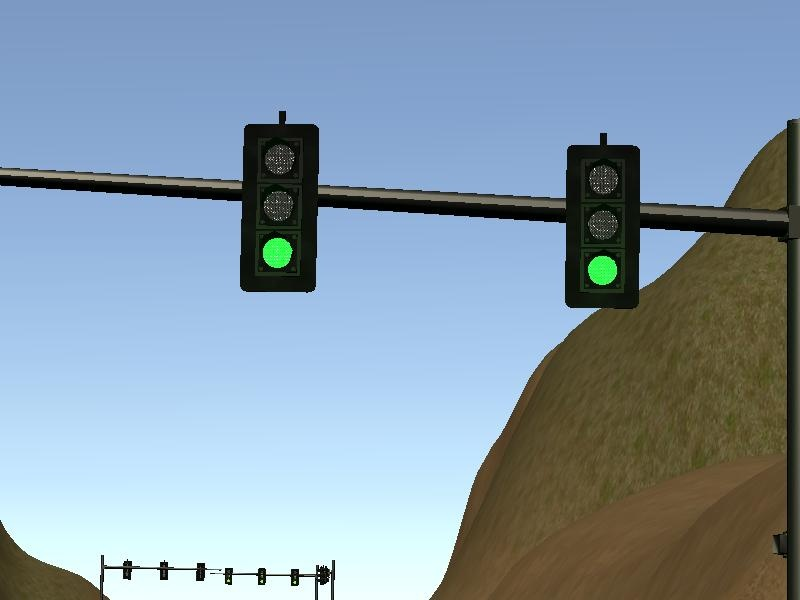GREEN: (242, 124, 317, 291), (565, 144, 638, 307)
